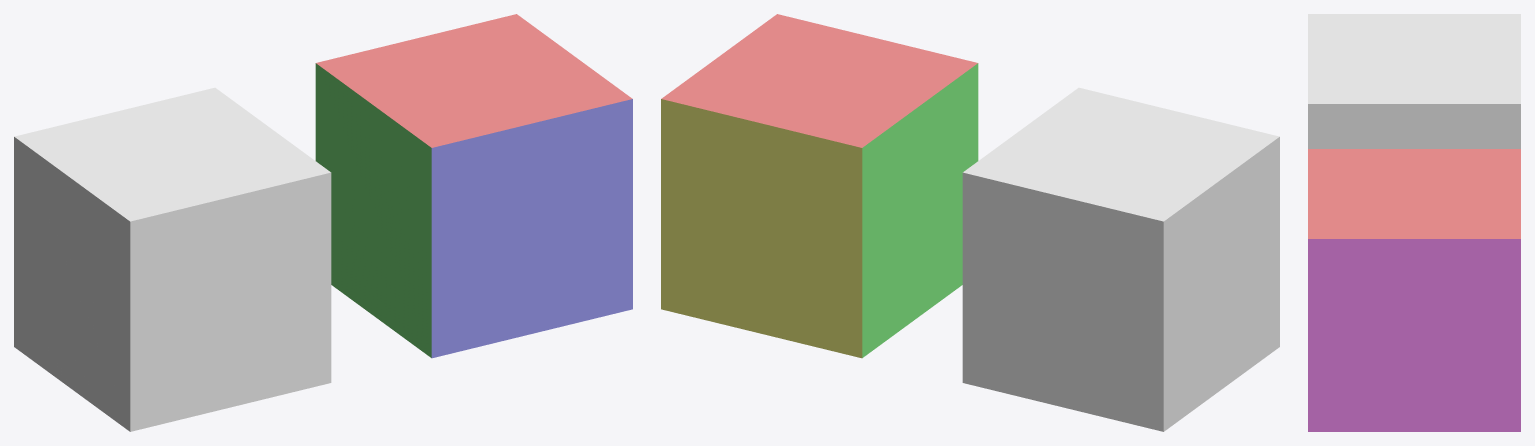
Rendered from AnimatedMorphCube.gltf.
3 renders of one model, left to right at view 1: azimuth 30°, elevation 25°; view 2: azimuth 150°, elevation 25°; view 3: azimuth 270°, elevation 25°, orthographic. The views are drawn at different scales.
Visible parts, largest first — view 1: pCube1, pCube2; view 2: pCube1, pCube2; view 3: pCube2, pCube1.
Part boxes in pixels (x1,y1,x2,y2): pCube1: [14, 87, 331, 431]; pCube2: [315, 14, 632, 358]; pCube1: [962, 87, 1279, 431]; pCube2: [661, 14, 978, 358]; pCube2: [1308, 149, 1520, 431]; pCube1: [1308, 14, 1520, 148].
Bounding box in the file's own units: 2.5 × 1 × 1.
